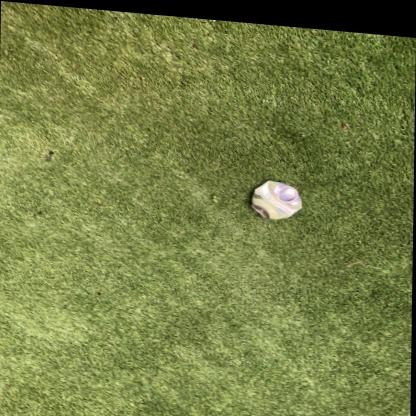trash: (251, 180, 301, 219)
